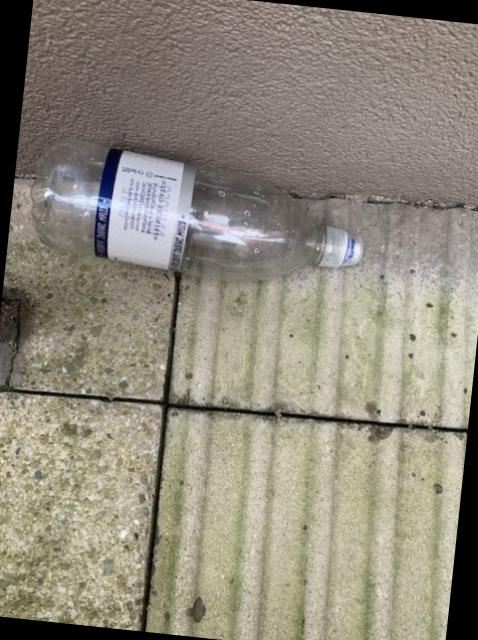plastic: (29, 140, 361, 282)
